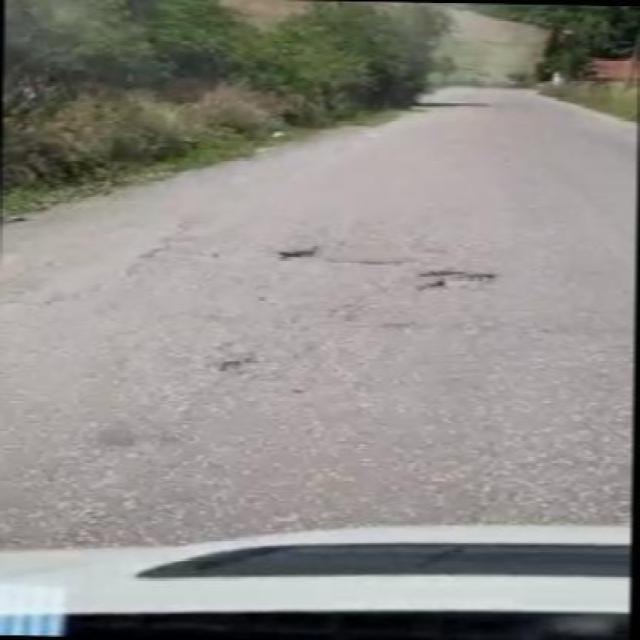Pothole: (404, 265, 508, 298), (262, 238, 336, 267), (215, 341, 269, 380)
